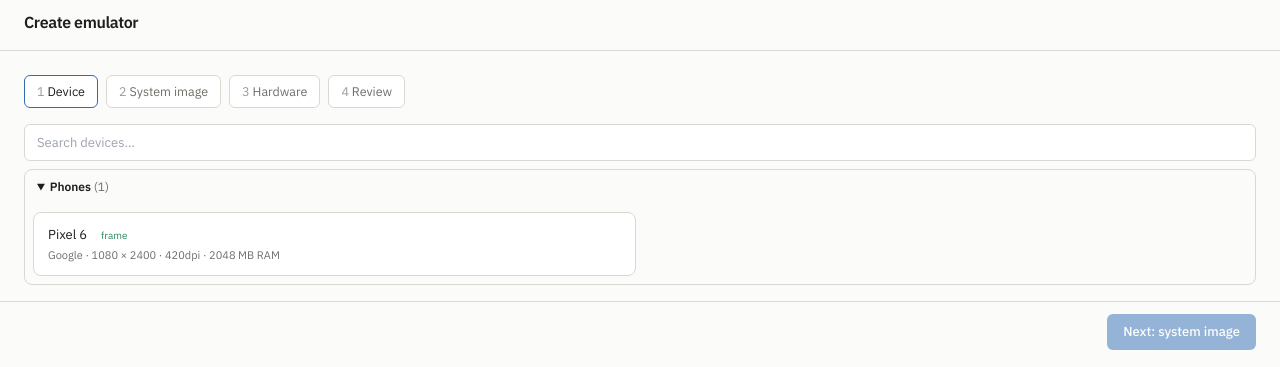
Test: Create wizard › marks installed images, sorts them first, and pre-selects one
The image size is (1280, 367).
Click the button with test id "device-pixel_6" at (68, 235), box [33,212,636,276]
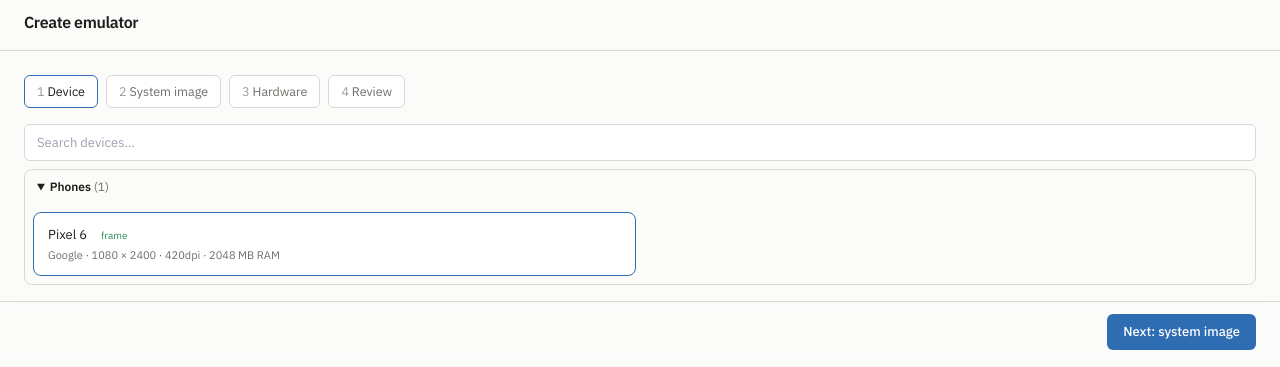
Click the button with test id "next-button" at (1182, 332), box [1107,314,1256,350]
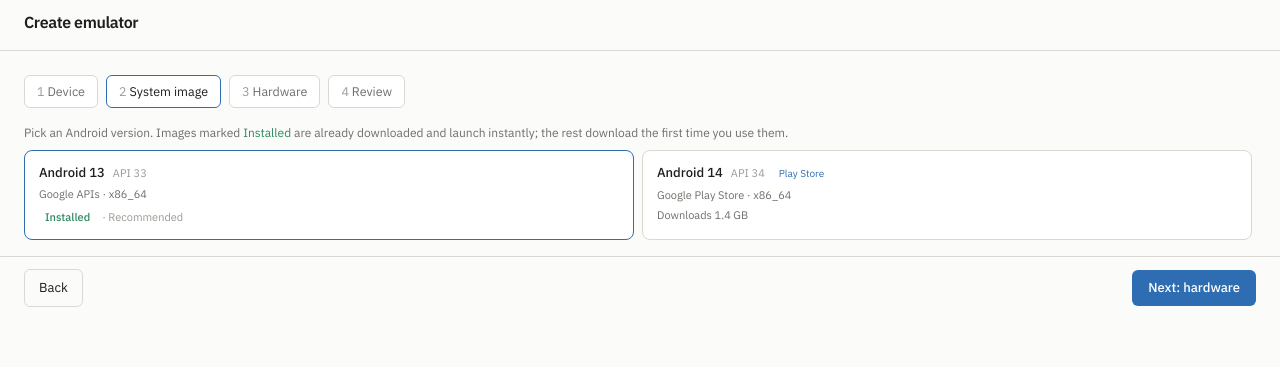
Check: the button with test id "next-button" is enabled, box [1132,270,1256,306]
Check: the button with test id "image-system-images;android-33;google_apis;x86_64" shows "Android 13", box [24,150,634,240]
Check: the button with test id "image-system-images;android-33;google_apis;x86_64" shows "Installed", box [24,150,634,240]
